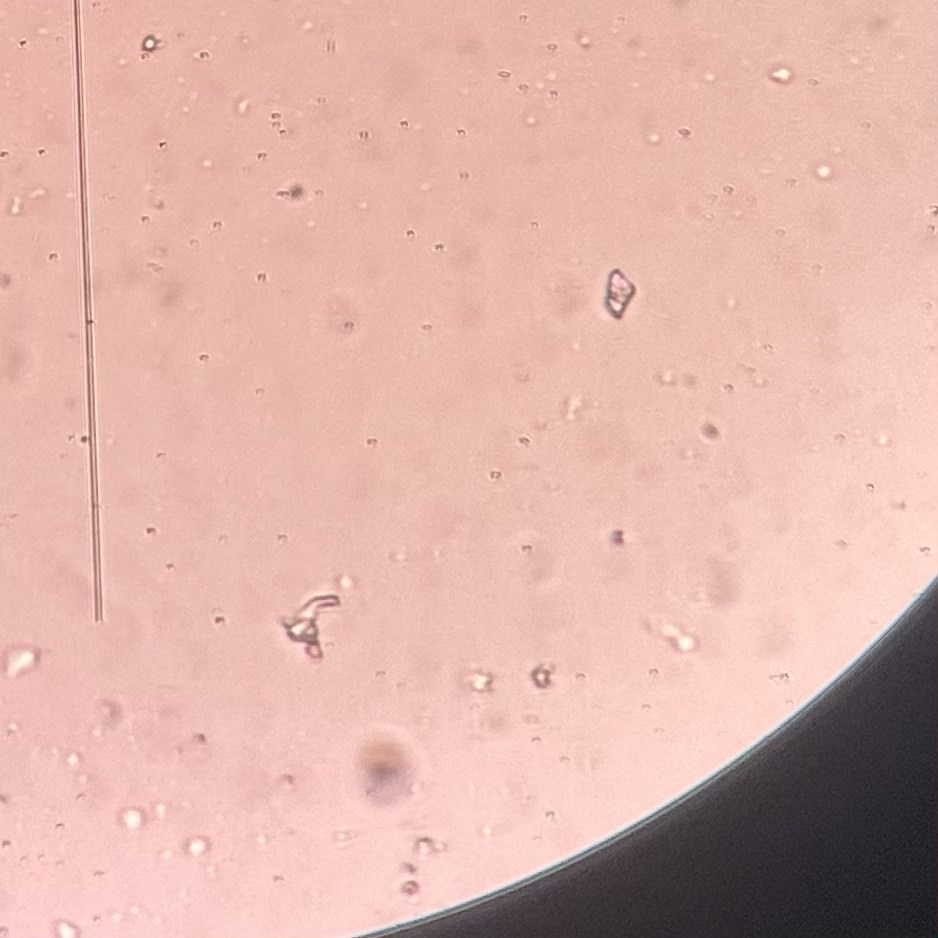not_microplastic: (355, 727, 418, 802), (281, 590, 347, 651), (597, 268, 640, 315), (11, 641, 43, 688), (117, 807, 153, 827), (773, 65, 801, 85), (814, 160, 837, 182), (140, 33, 163, 52), (190, 835, 214, 853), (53, 923, 79, 938)
